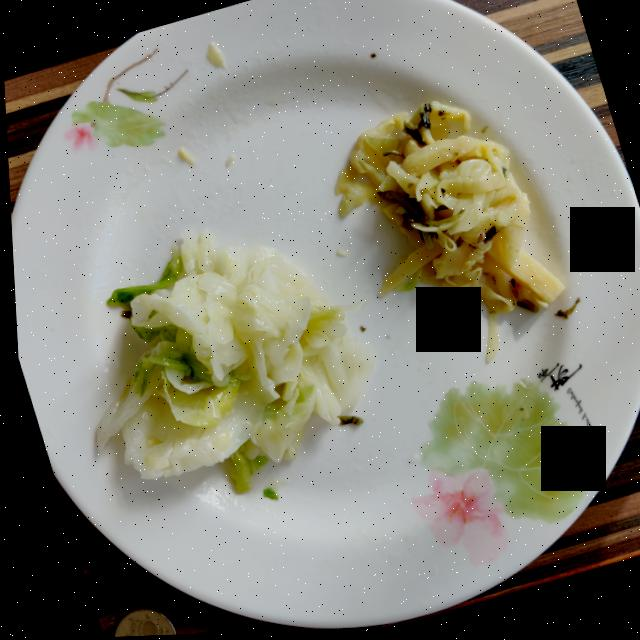cabbage: (91, 231, 369, 492)
coin: (107, 608, 169, 638)
